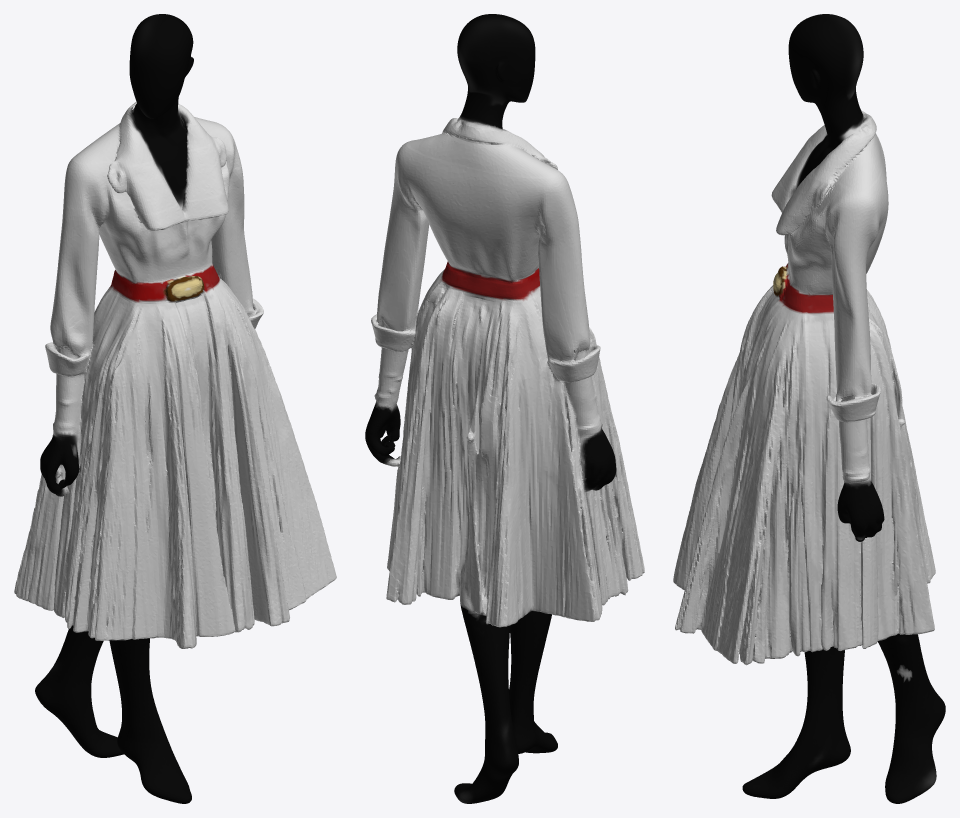
The model's file is vestido2.glb.
3 renders of one model, left to right at view 1: azimuth 30°, elevation 25°; view 2: azimuth 150°, elevation 25°; view 3: azimuth 270°, elevation 25°, orthographic. The views are drawn at different scales.
Visible parts, largest first — view 1: _gltfNode_5; view 2: _gltfNode_5; view 3: _gltfNode_5.
Part boxes in pixels (bbox=[...]): _gltfNode_5: bbox=[14, 14, 336, 803]; _gltfNode_5: bbox=[365, 14, 644, 803]; _gltfNode_5: bbox=[673, 14, 945, 803].
Bounding box in the file's own units: 0.3613 × 1.01 × 0.3185.
